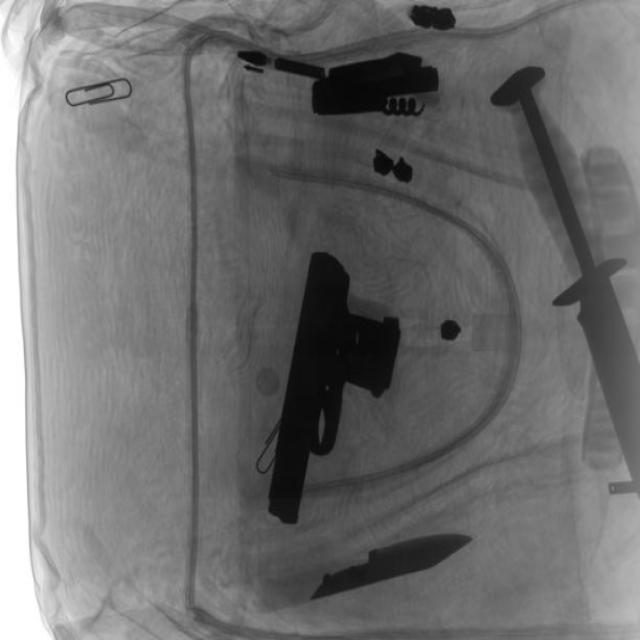GUN: (265, 256, 403, 523), (301, 50, 447, 128)
KNIFE: (310, 511, 473, 614)
